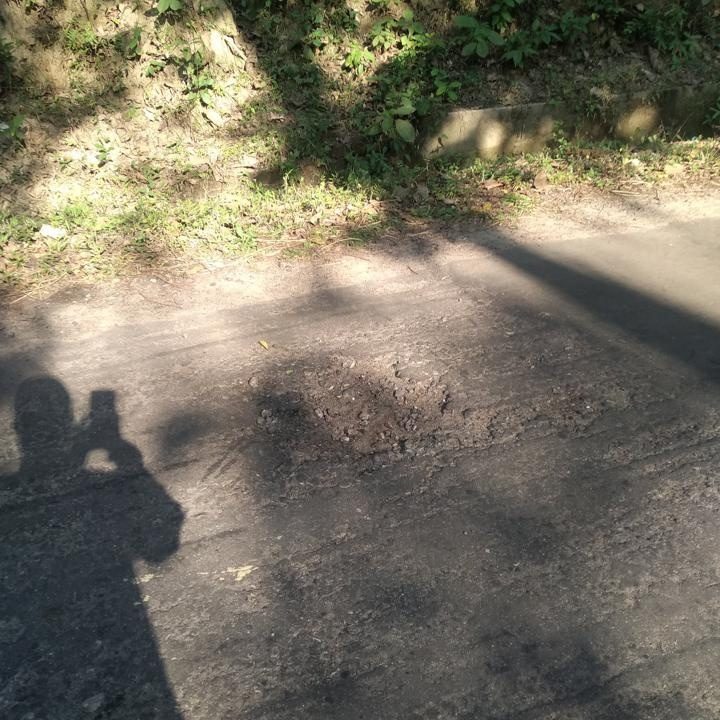pothole: (286, 348, 505, 472)
